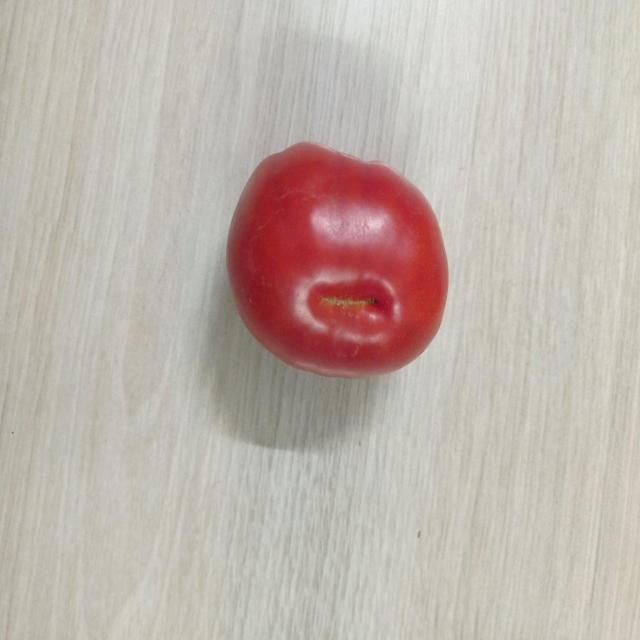Tomato: (225, 139, 454, 378)
